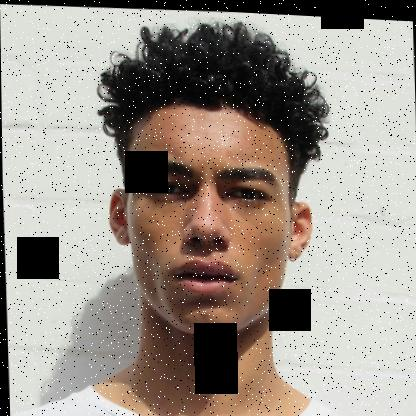Male: (106, 98, 313, 335)
